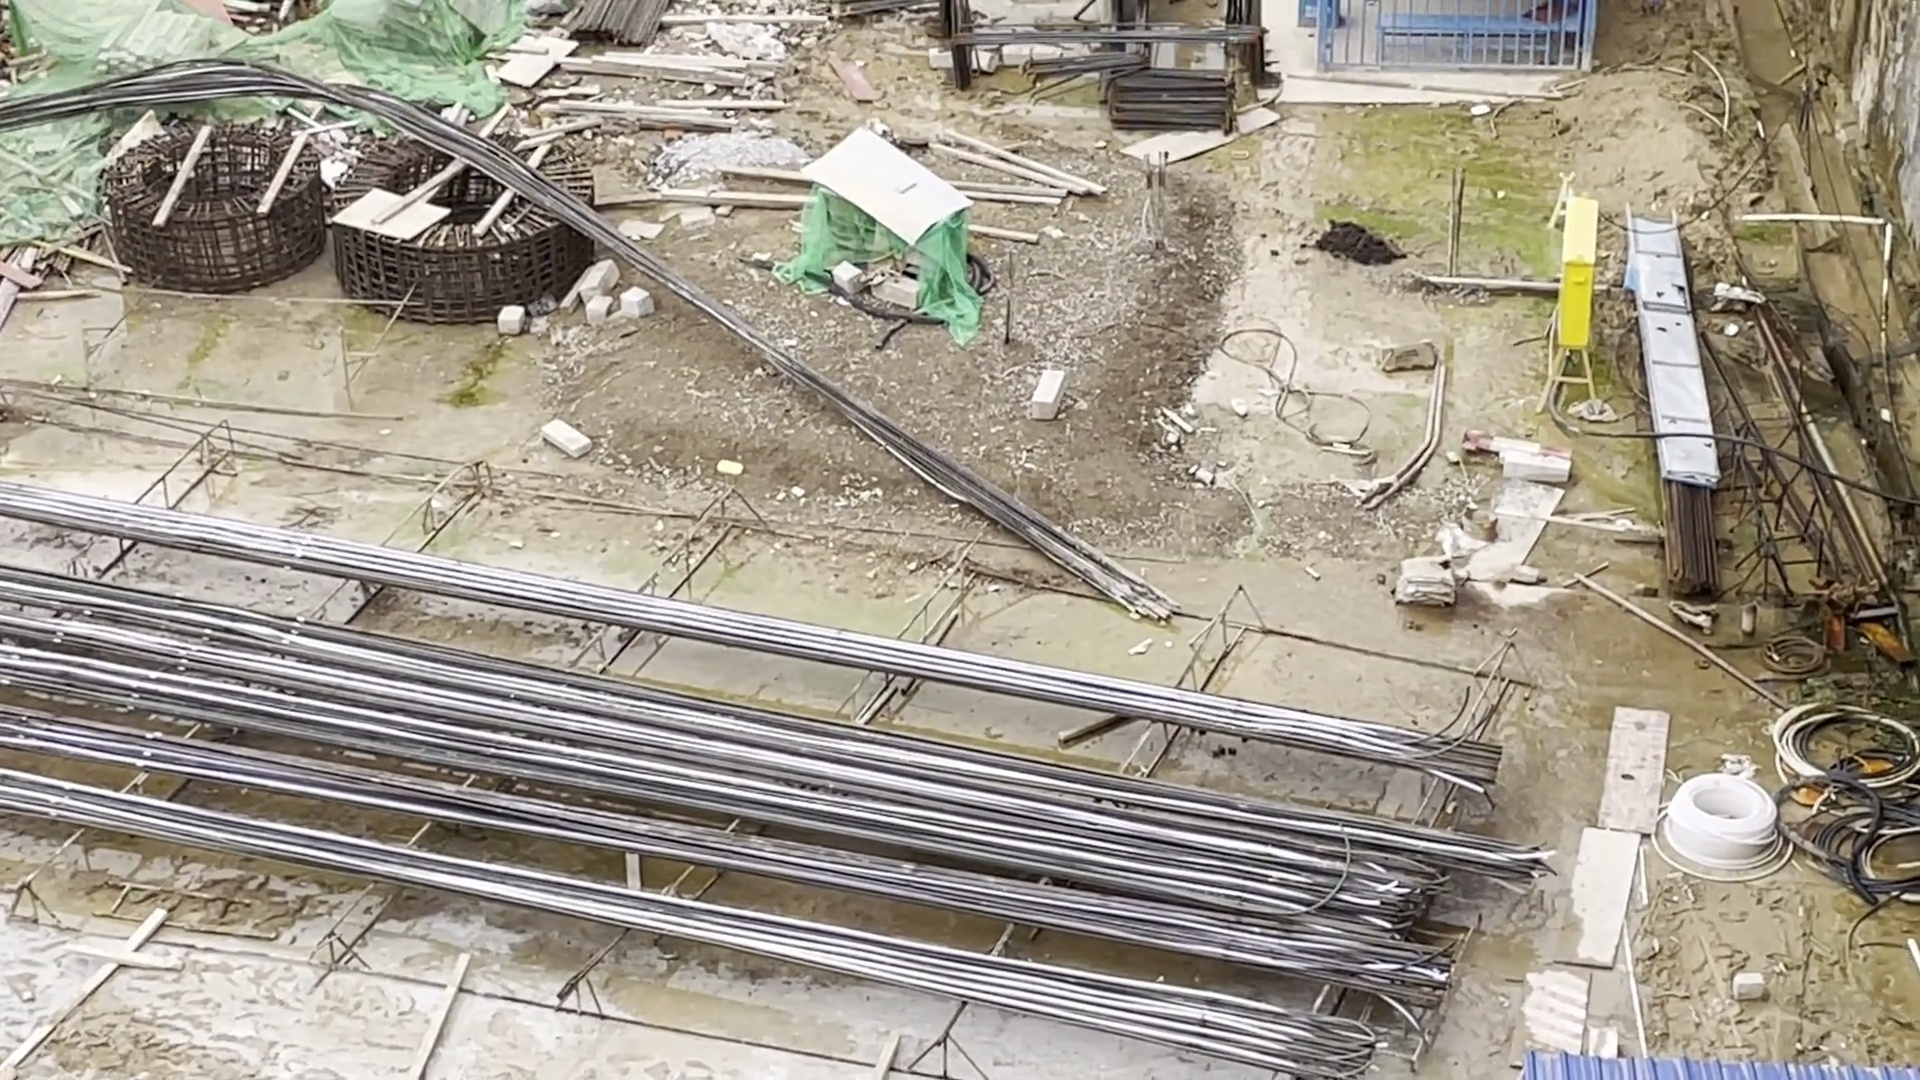ebox: (1532, 193, 1625, 400)
rebar: (1, 462, 1461, 1033)
